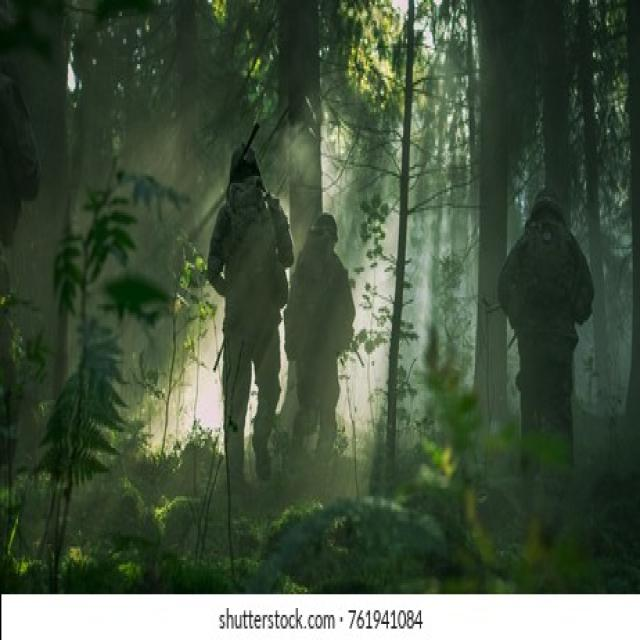Forest: (0, 0, 640, 590)
Militant: (490, 178, 596, 550), (202, 110, 294, 512), (287, 188, 369, 480)
